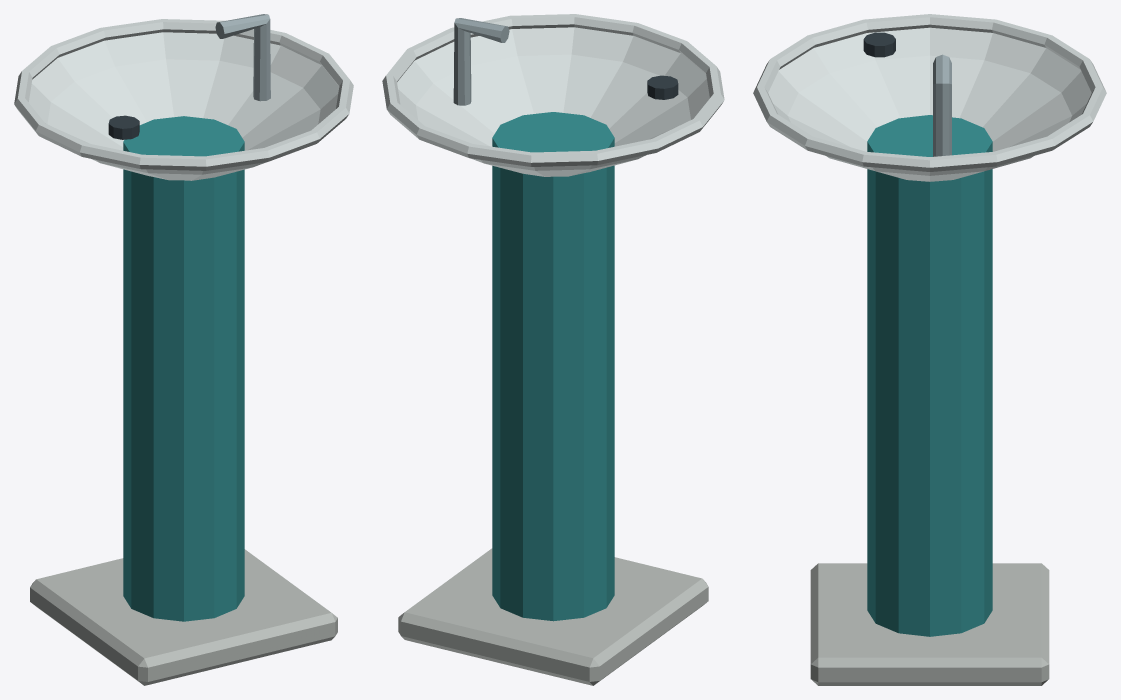
The model's file is Drinking_Fountain.glb.
3 renders of one model, left to right at view 1: azimuth 30°, elevation 25°; view 2: azimuth 150°, elevation 25°; view 3: azimuth 270°, elevation 25°, orthographic. The views are drawn at different scales.
Visible parts, largest first — view 1: Drinking_Fountain; view 2: Drinking_Fountain; view 3: Drinking_Fountain.
Boxes of the visible parts, box(x1,y1,x2,y2) form: Drinking_Fountain: box(14, 14, 353, 685); Drinking_Fountain: box(382, 14, 724, 685); Drinking_Fountain: box(753, 14, 1106, 685).
Bounding box in the file's own units: 0.564 × 1.06 × 0.564.
